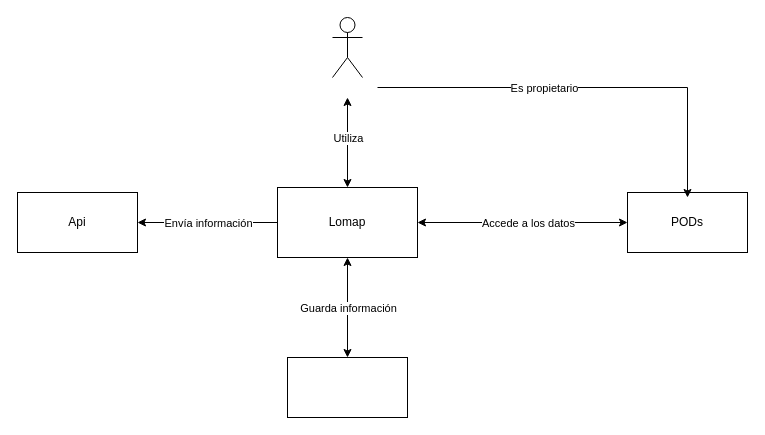
This 765x435 diagram has some shape labels left out. The box of each missing label's shape, as (x1, y1, x2, y2) in pixels:
MongoDB: (286, 356, 408, 418)
User: (332, 16, 362, 78)
